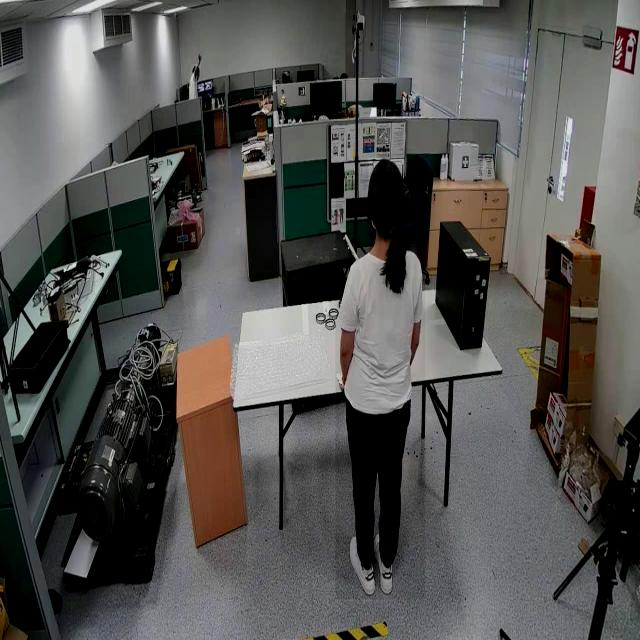head_nohelmet: (368, 158, 408, 194), (192, 64, 200, 71)
person: (335, 173, 425, 600)
shoes: (348, 535, 378, 595), (373, 524, 398, 594)
